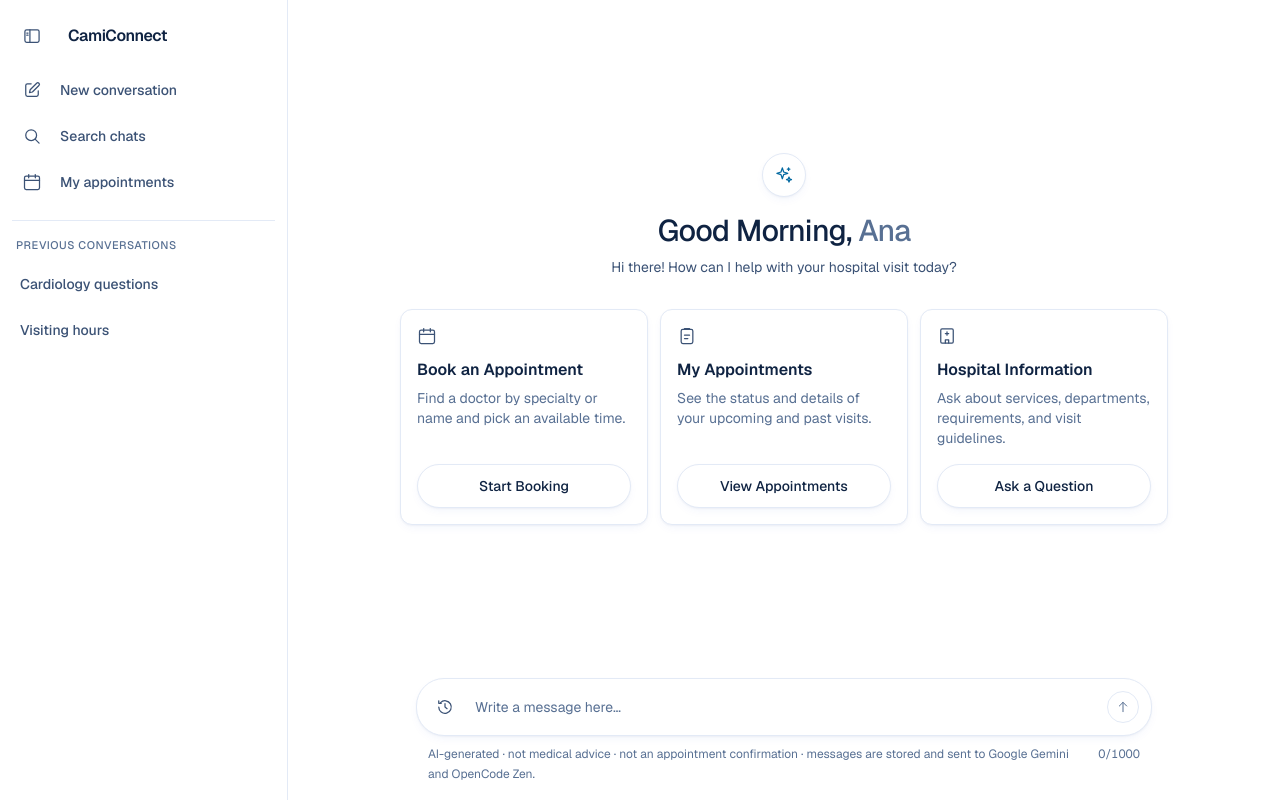
ChatShell sidebar › opens history search from the composer
The image size is (1280, 800).
Click the button named "Collapse sidebar" at (32, 36), box [8,12,56,60]
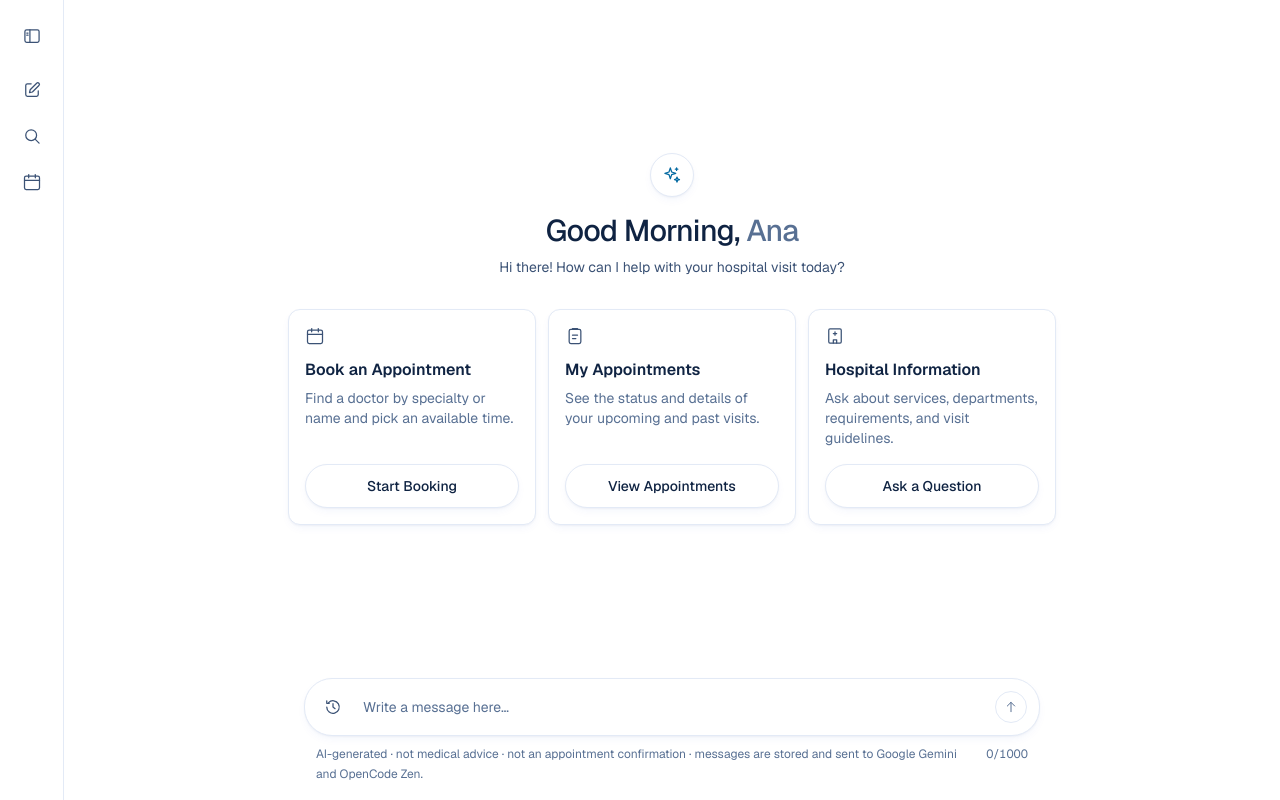
Click the button named "Open chat history" at (333, 707), box [311,685,355,729]
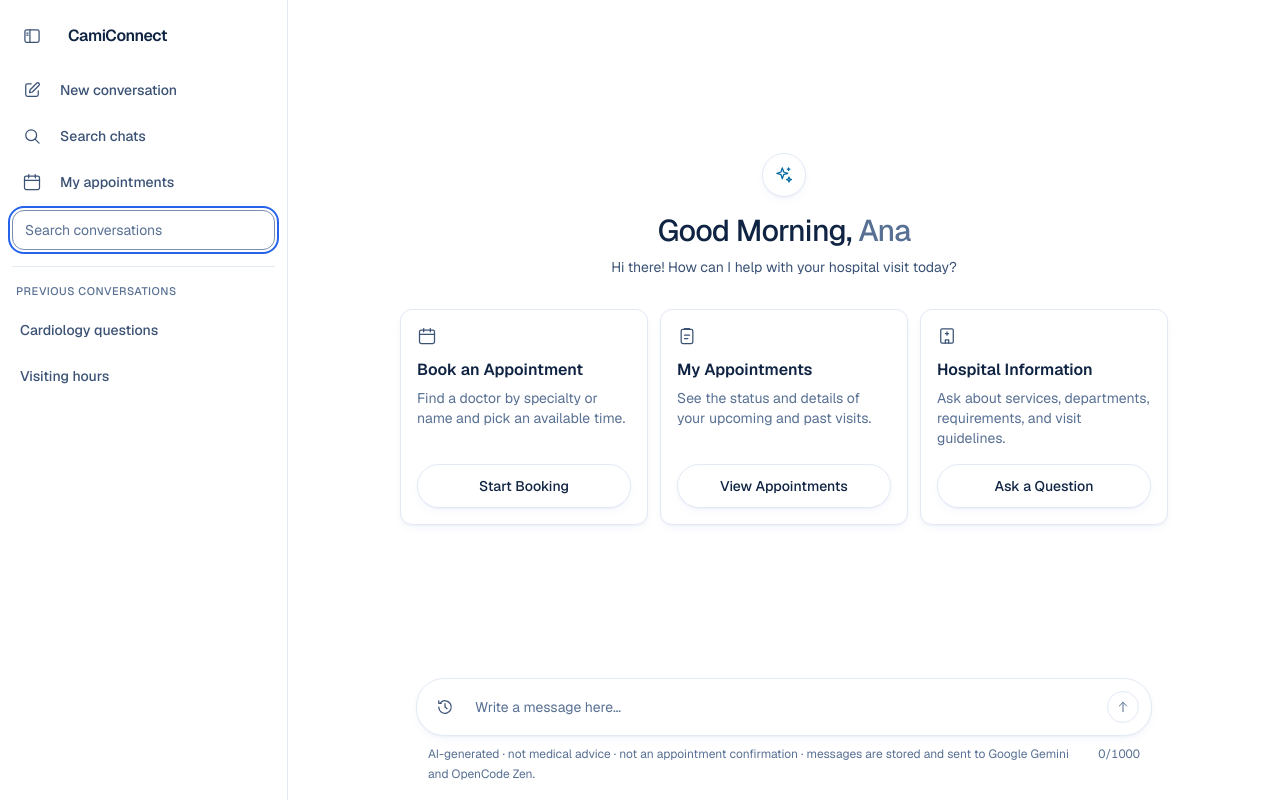
Now the search field labelled "Search conversations" is shown, box [12,210,275,250]
